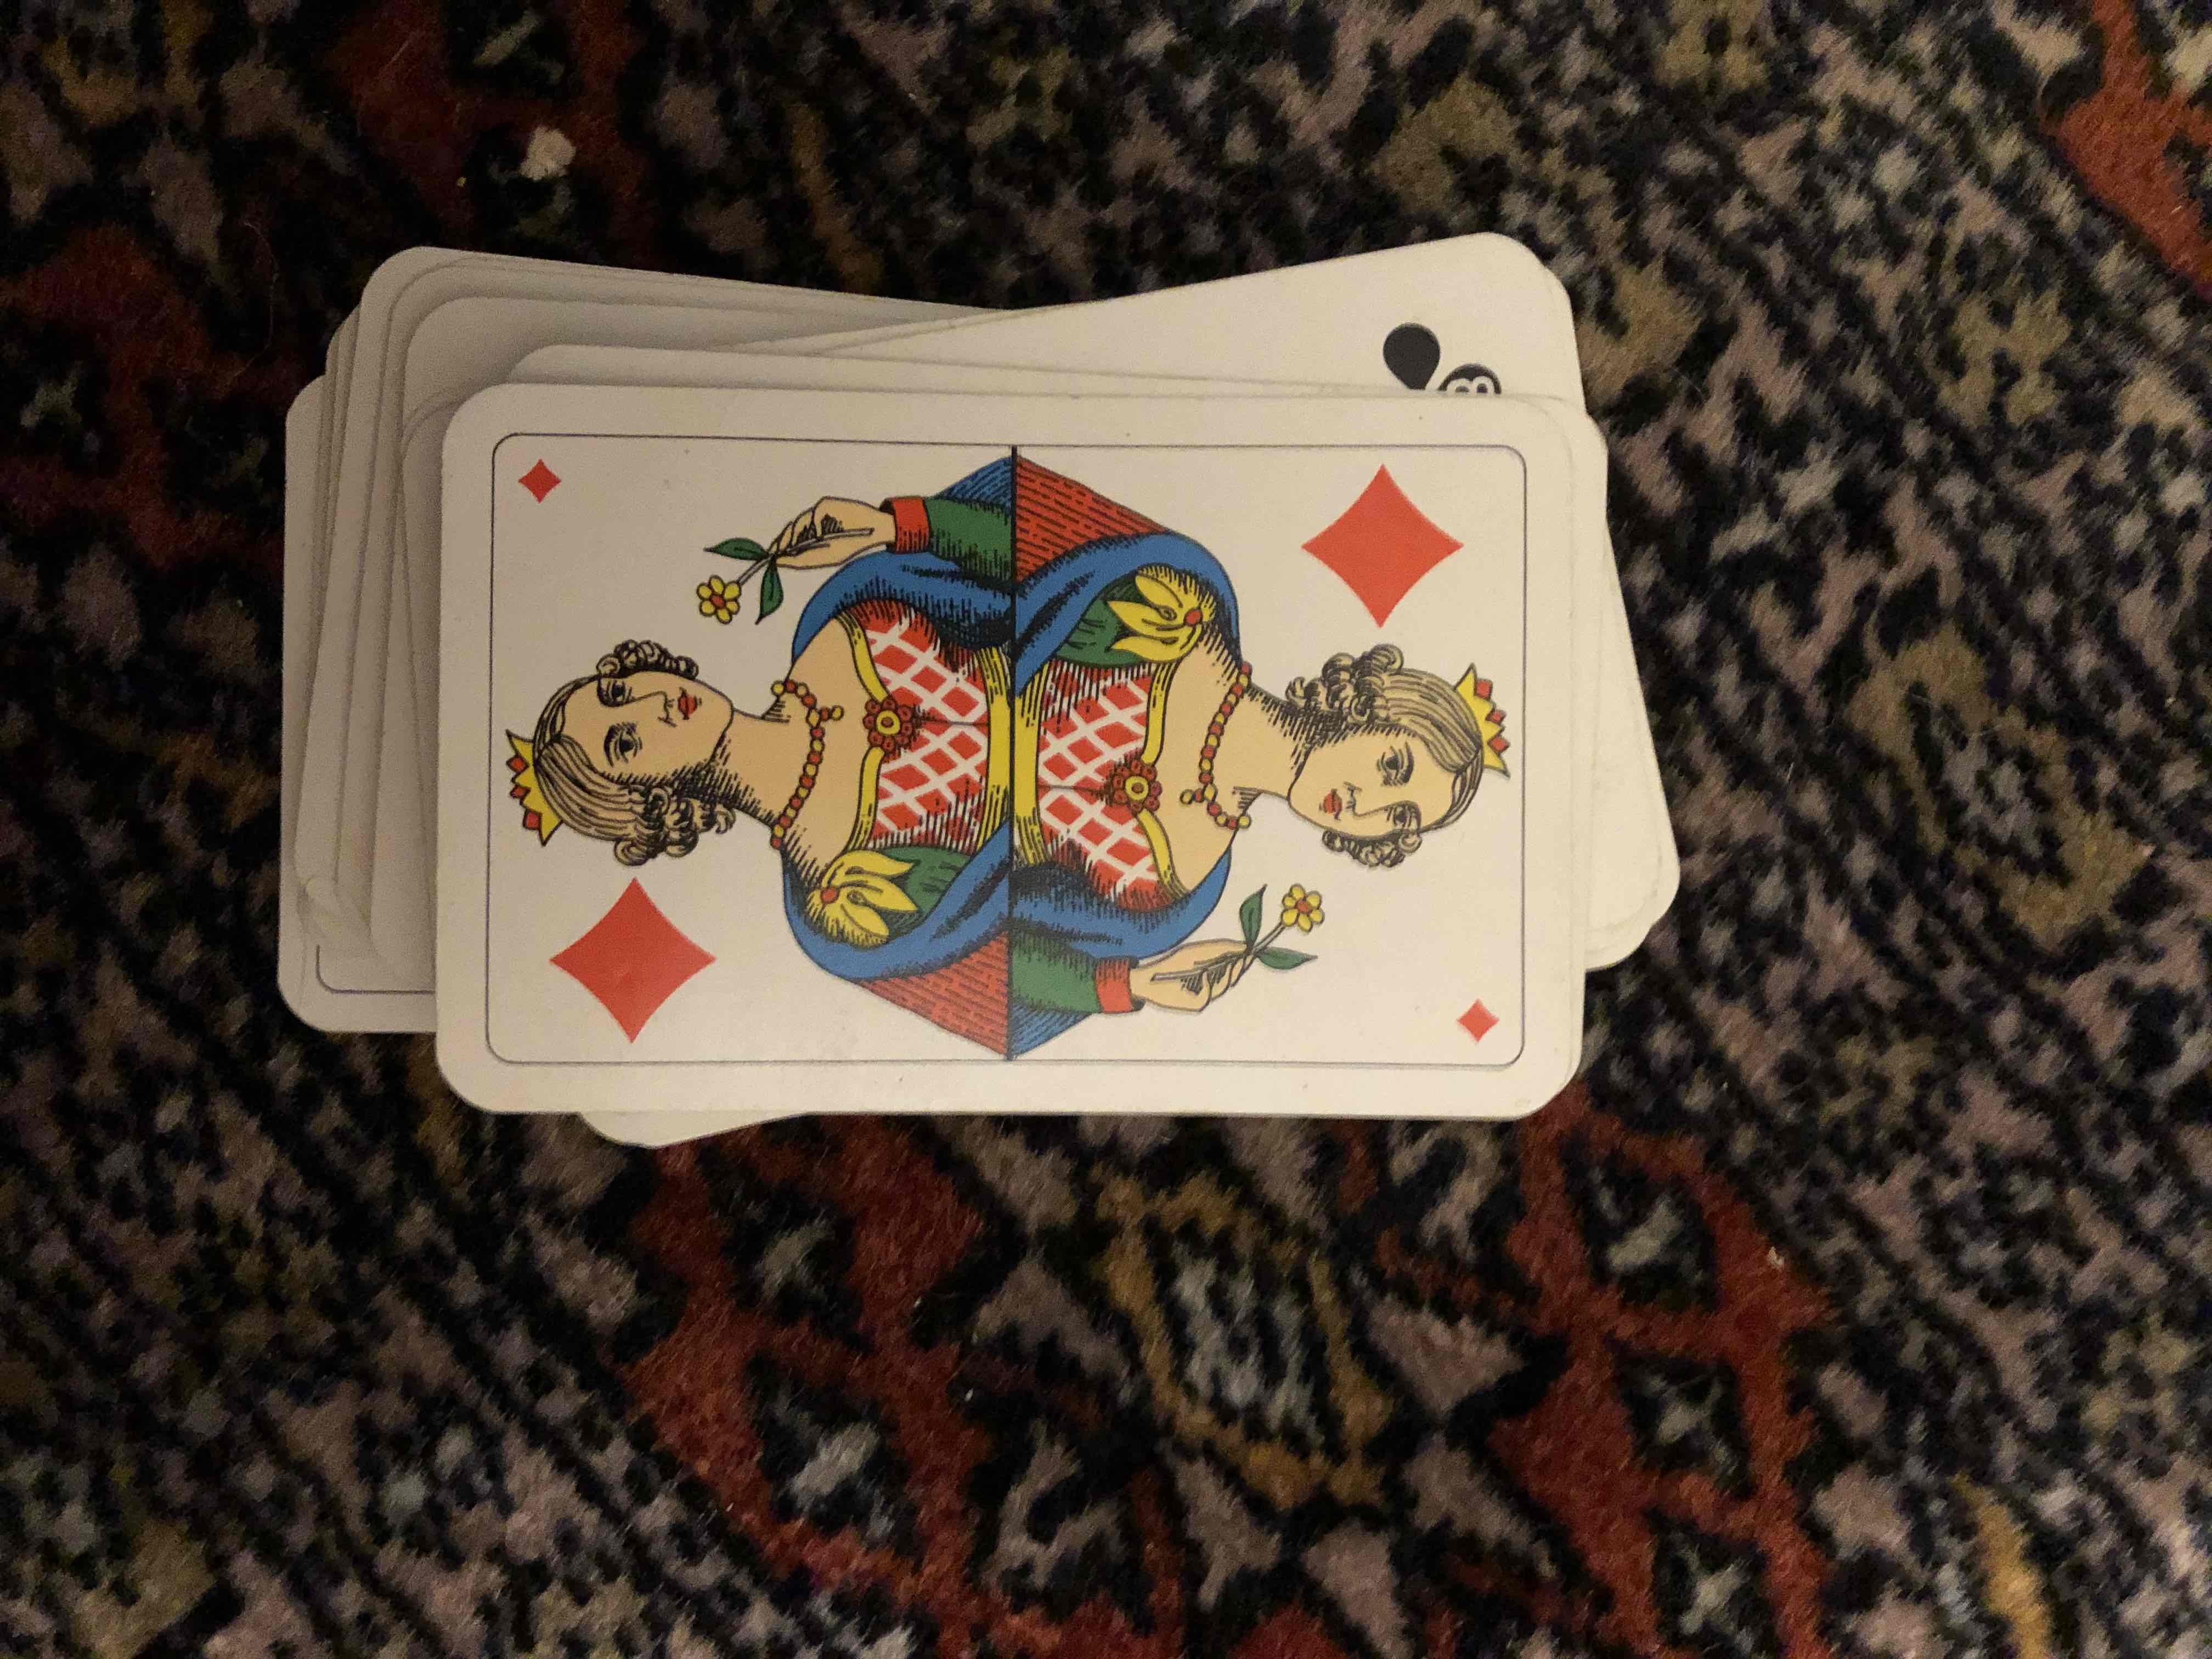diamondQueen: (435, 385, 1594, 1127)
